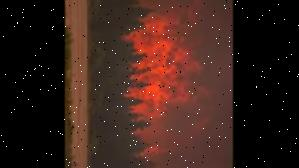fire: (117, 0, 206, 138)
